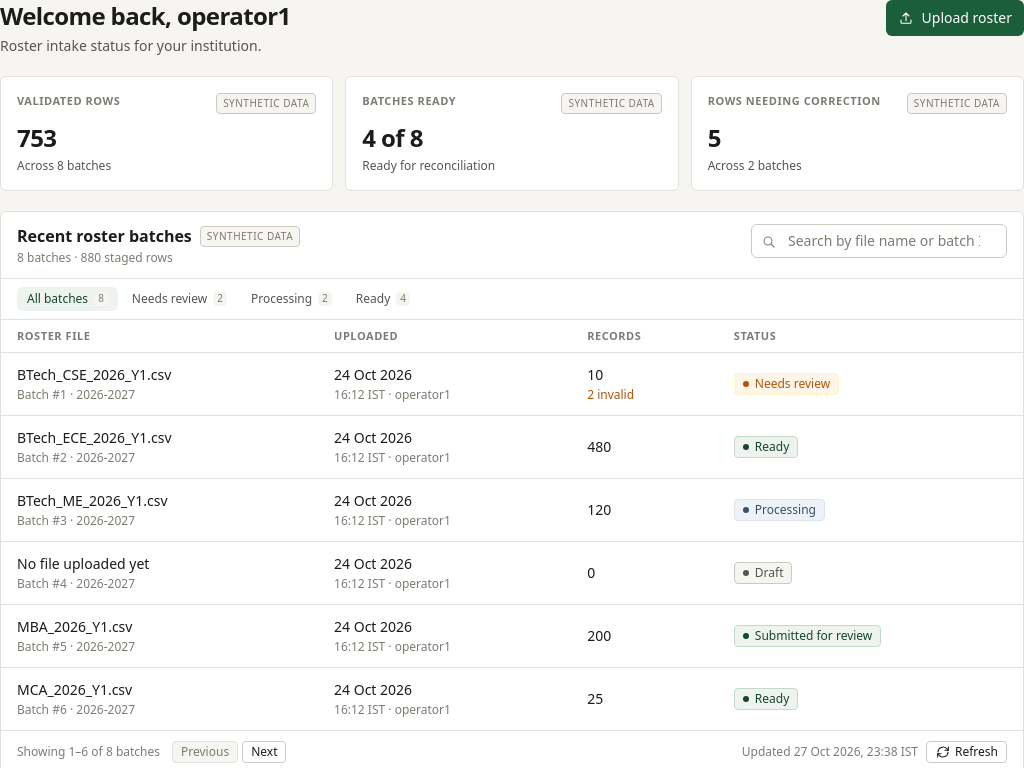
Test: DashboardPage › paginates the batch list
expect the heading "Welcome back, operator1" is shown: met, box [0,0,291,32]
expect the text "BTech_CSE_2026_Y1.csv" is shown: met, box [17,365,171,384]
Click the button "Next".
click(264, 752)  # box [242,741,286,763]
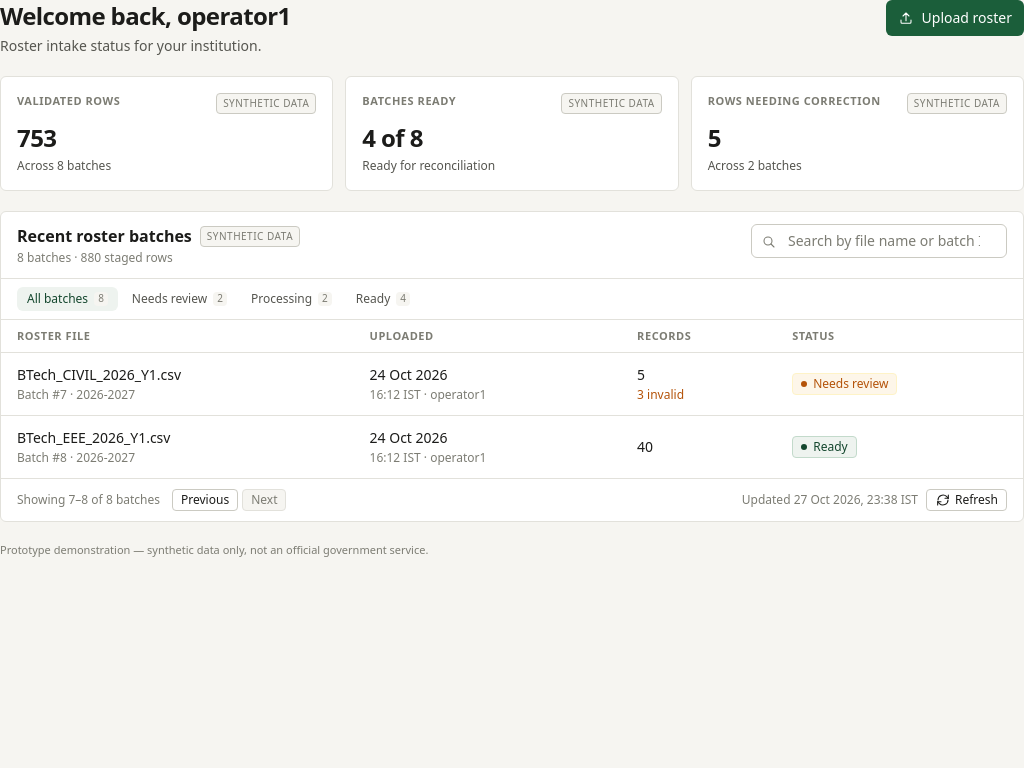
expect the text "Showing 7–8 of 8 batches" is shown: met, box [17,492,160,508]
expect the text "BTech_CIVIL_2026_Y1.csv" is shown: met, box [17,365,181,384]
expect the text "BTech_EEE_2026_Y1.csv" is shown: met, box [17,428,170,447]
